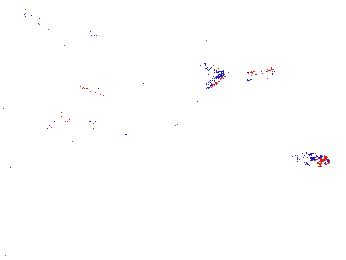red belly glassfish: (296, 151, 332, 169)
redtail glassfish: (17, 8, 115, 47), (37, 115, 138, 148), (208, 63, 276, 86), (107, 74, 161, 98)
